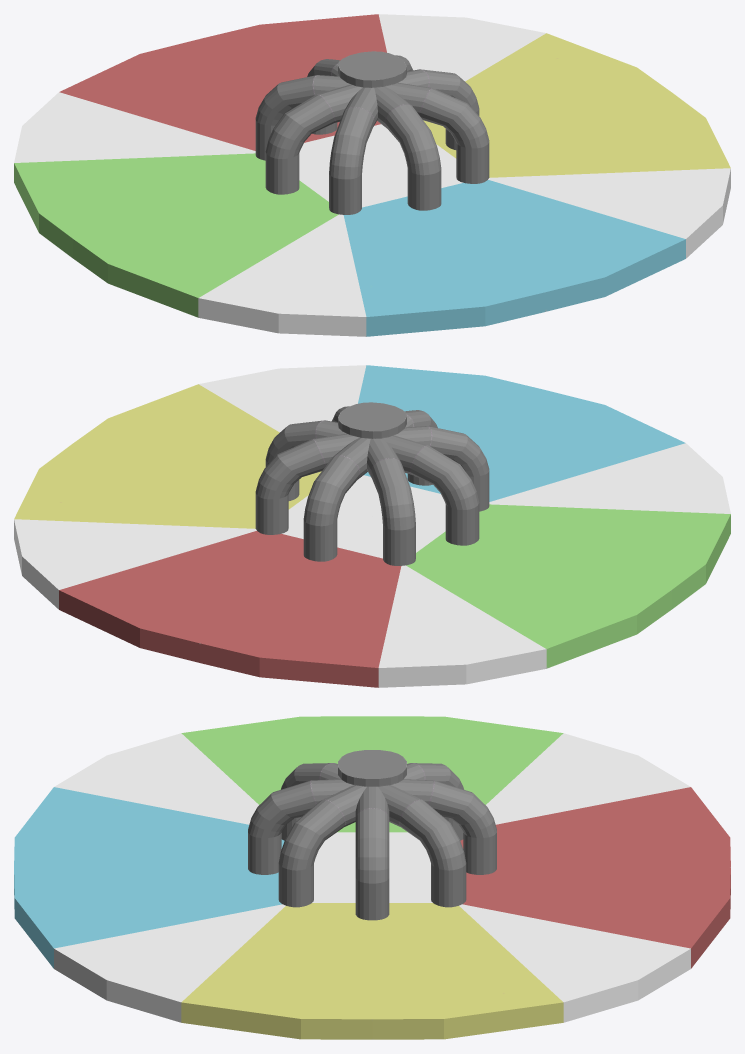
File: GiraGira.fbx
The picture shows the model from 3 angles, top to bottom: view 1: azimuth 30°, elevation 25°; view 2: azimuth 150°, elevation 25°; view 3: azimuth 270°, elevation 25°; orthographic projection. The views are drawn at different scales.
Visible parts, largest first — view 1: Cube, Cube.003, Cube.001, Cube.002, Cube.004, Cube.006; view 2: Cube, Cube.004, Cube.001, Cube.002, Cube.003, Cube.006; view 3: Cube, Cube.002, Cube.003, Cube.004, Cube.001, Cube.006.
Boxes of the visible parts, x1,y1,x2,y2 form: Cube: (14, 14, 730, 336); Cube.003: (255, 75, 489, 183); Cube.001: (265, 69, 479, 194); Cube.002: (307, 59, 441, 210); Cube.004: (329, 55, 413, 214); Cube.006: (338, 51, 406, 87); Cube: (14, 365, 730, 687); Cube.004: (255, 426, 489, 534); Cube.001: (265, 420, 479, 545); Cube.002: (303, 410, 437, 561); Cube.003: (331, 406, 415, 565); Cube.006: (338, 402, 406, 438); Cube: (14, 716, 730, 1039); Cube.002: (248, 779, 496, 874); Cube.003: (278, 763, 463, 907); Cube.004: (281, 763, 466, 907); Cube.001: (355, 786, 389, 920); Cube.006: (338, 750, 406, 786).
Bounding box in the file's own units: 1017 × 194 × 1017.
